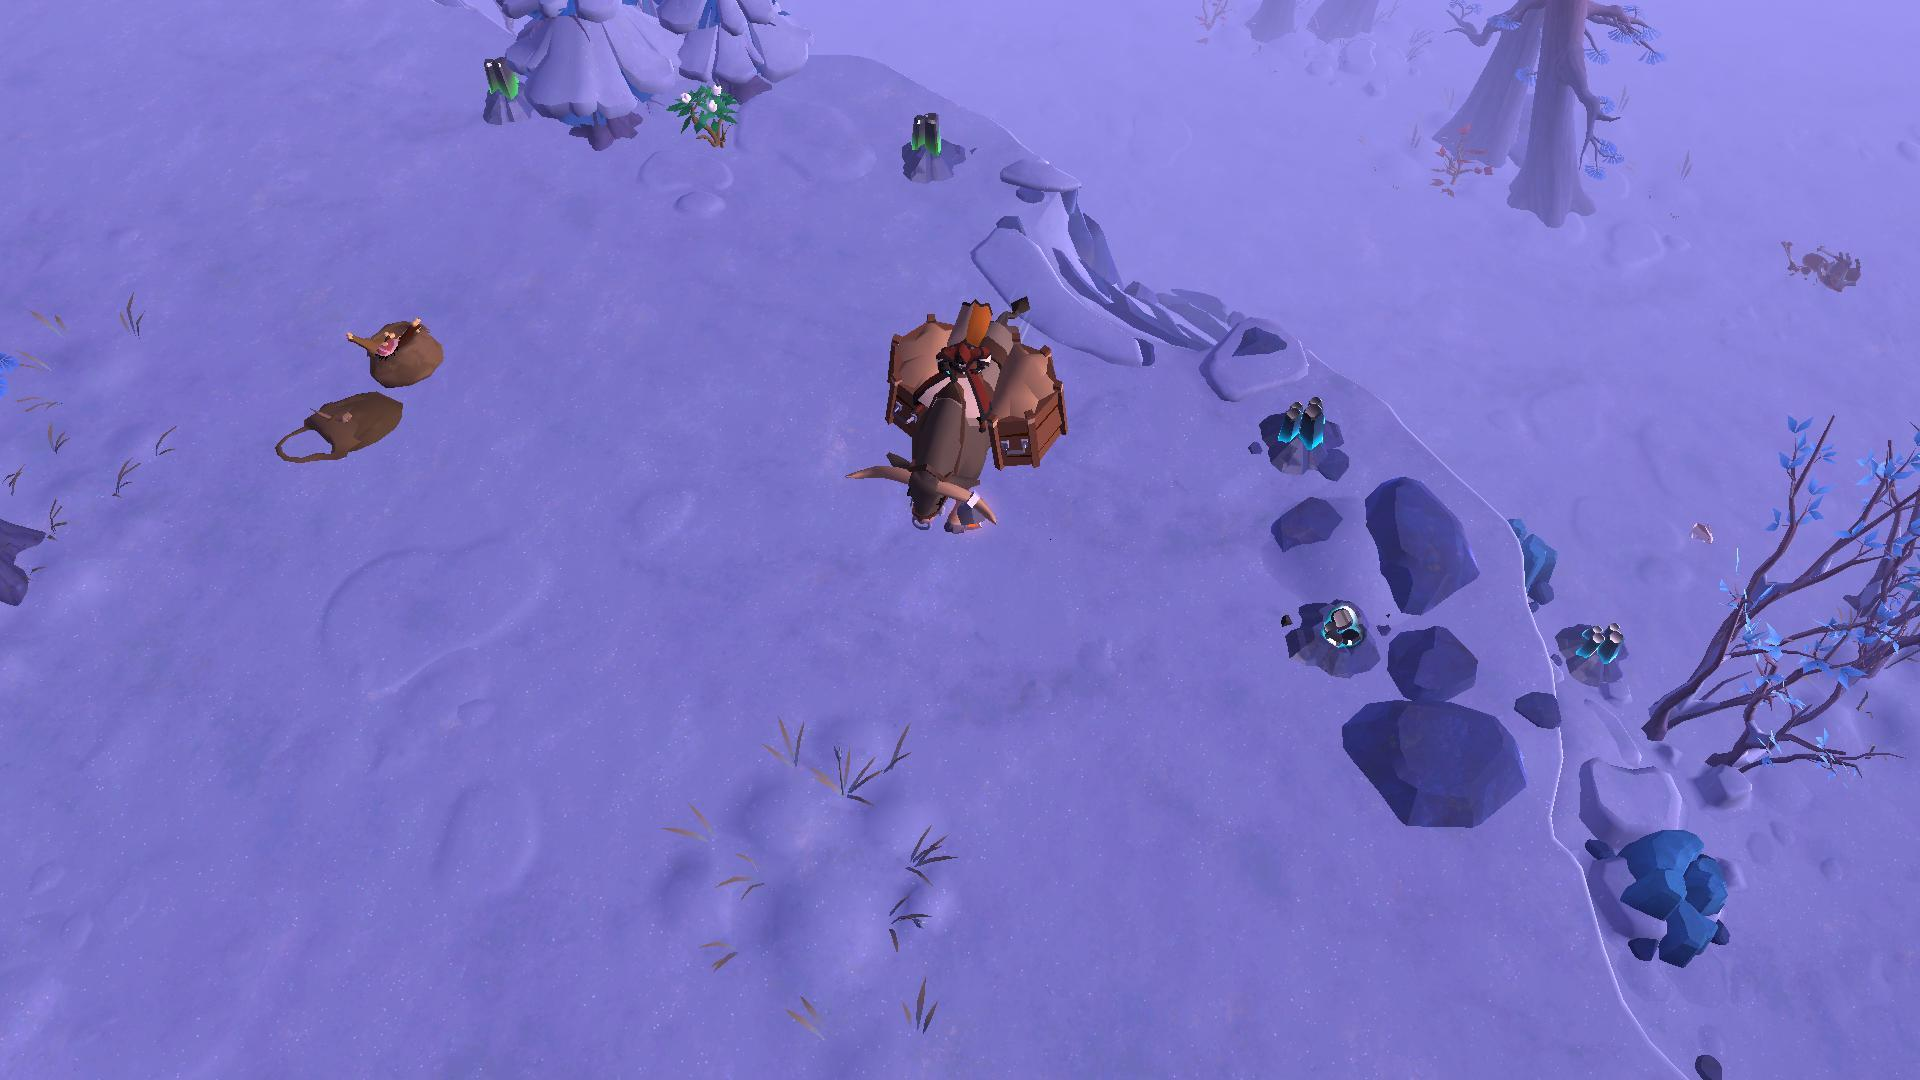fiber_t3: (670, 75, 741, 154)
ore_t3: (901, 103, 947, 156), (473, 51, 524, 99)
ore_t4: (1273, 390, 1328, 456), (1572, 615, 1631, 667)
rock_t4: (1590, 815, 1749, 972), (1482, 506, 1567, 612)
